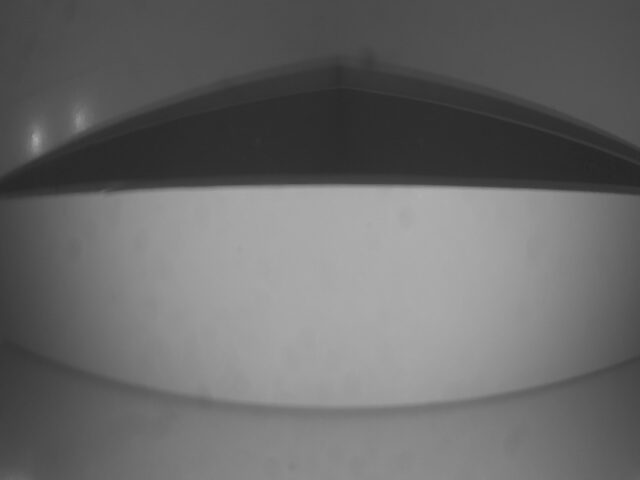Red: (1, 195, 640, 409)
